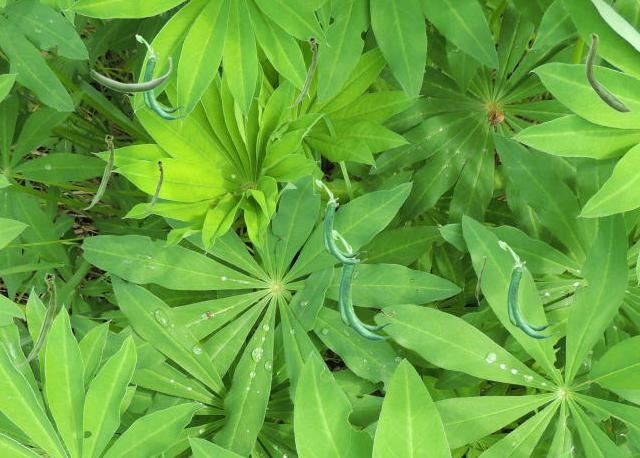french_bean: (333, 229, 396, 340), (498, 240, 558, 338), (135, 34, 186, 119), (315, 179, 366, 264), (585, 32, 631, 112), (16, 272, 55, 366), (90, 57, 171, 92), (82, 134, 113, 209), (287, 36, 316, 107), (141, 160, 162, 212), (475, 256, 485, 304)
